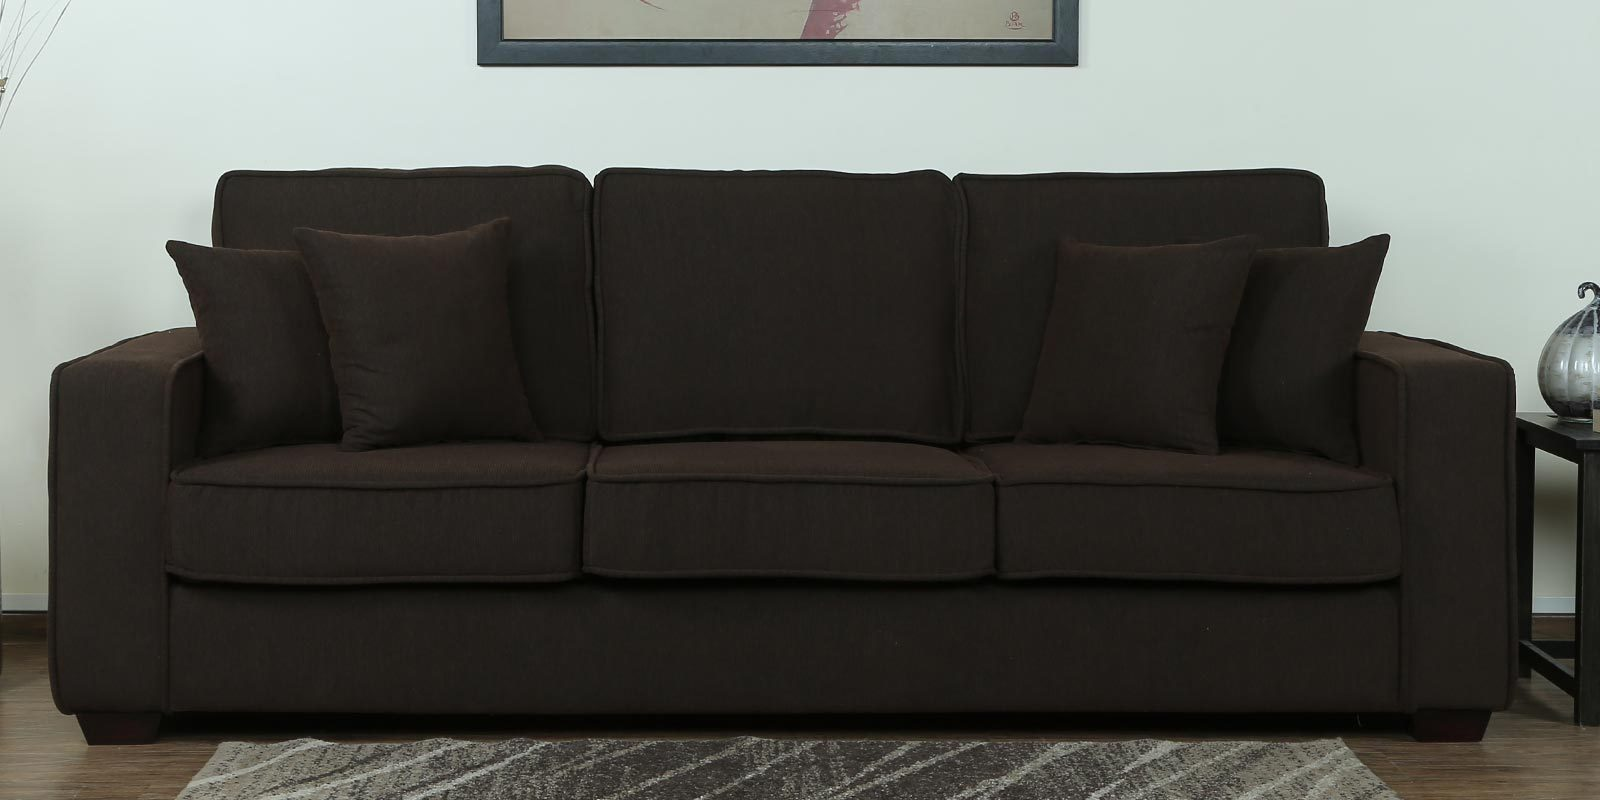Hugo Three Seater Sofa in Chestnut Brown Colour by CasaCraft: (32, 148, 1537, 771)
